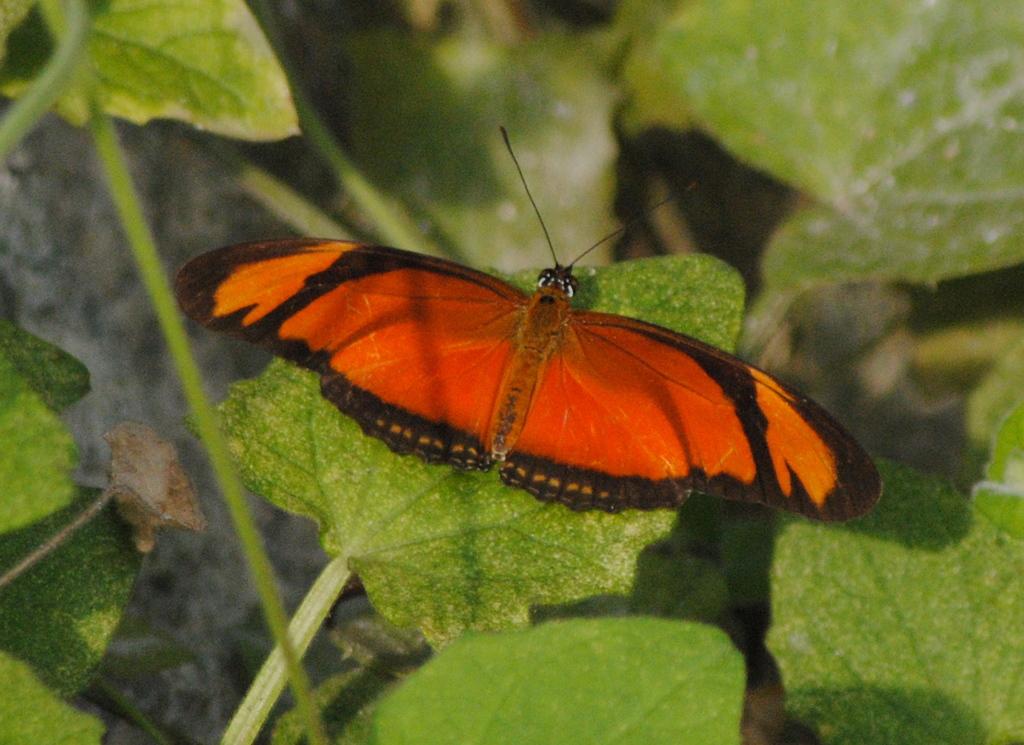Butterfly: (144, 143, 904, 550)
